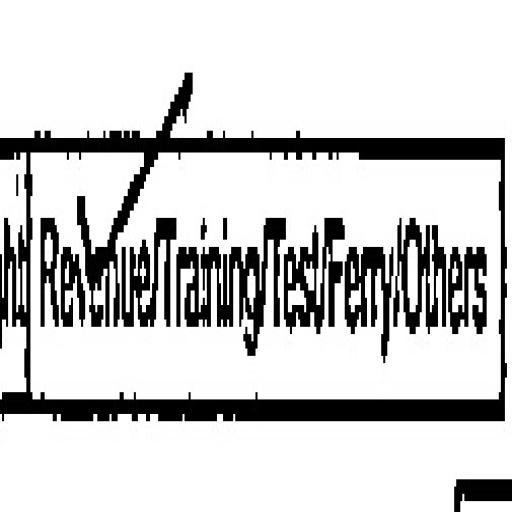check: (30, 26, 154, 479)
